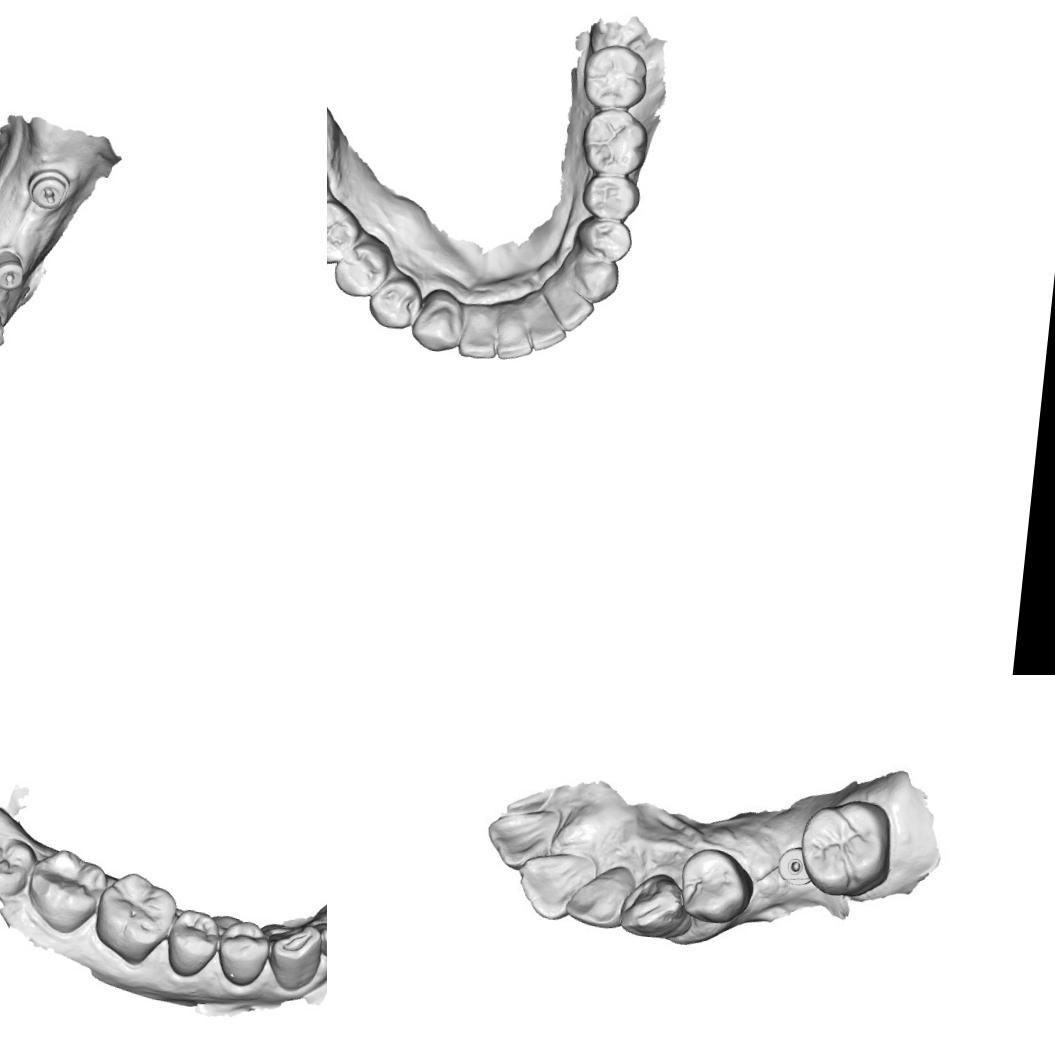canine: (620, 870, 692, 946), (264, 920, 324, 996), (409, 292, 466, 355), (568, 254, 623, 305)
implant: (773, 844, 817, 889)
implant_minus: (25, 164, 72, 213), (0, 247, 28, 294), (0, 305, 10, 352)
incisor: (515, 850, 594, 921), (490, 800, 565, 869), (564, 861, 635, 929), (546, 284, 597, 336), (456, 304, 502, 361), (493, 312, 536, 362), (527, 306, 569, 355), (316, 912, 327, 964)
molar: (798, 792, 898, 902), (89, 868, 182, 972), (23, 844, 110, 938), (580, 104, 652, 177), (580, 41, 650, 112), (0, 829, 40, 899), (327, 196, 364, 268)
premolar: (673, 839, 758, 928), (160, 905, 223, 980), (213, 918, 273, 991), (331, 236, 393, 302), (365, 272, 425, 333), (581, 171, 642, 224), (574, 216, 634, 262)
